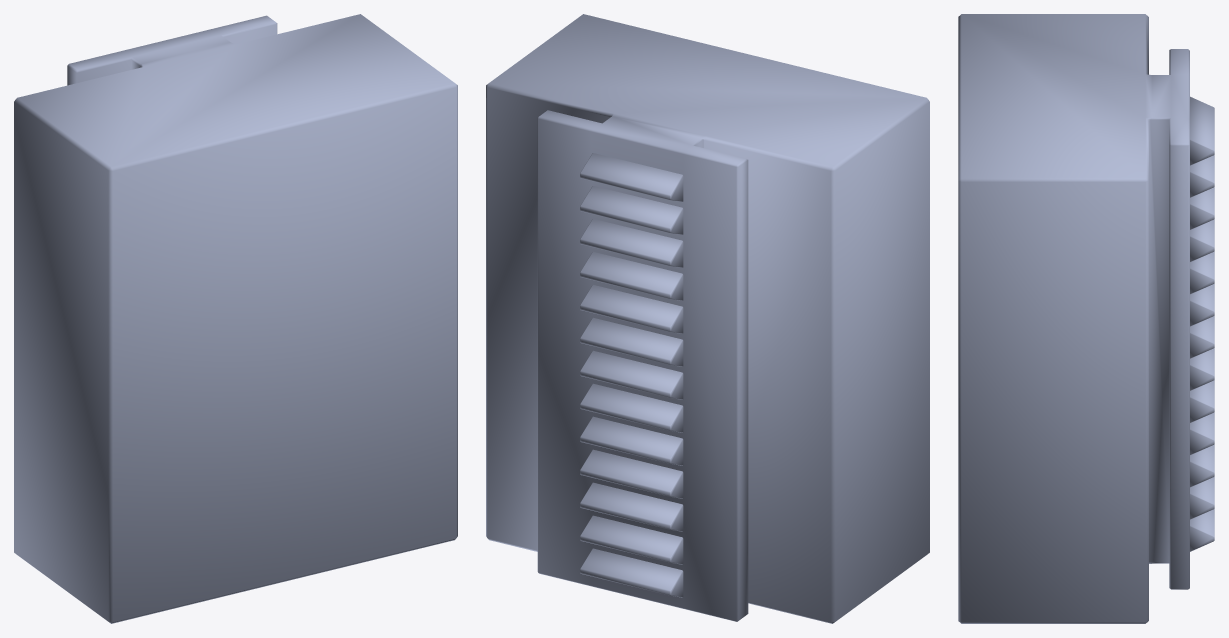
File: Sawblade_mount.fbx
3 renders of one model, left to right at view 1: azimuth 30°, elevation 25°; view 2: azimuth 150°, elevation 25°; view 3: azimuth 270°, elevation 25°, orthographic. The views are drawn at different scales.
Parts seen in each view (by area): view 1: Sawblade_mount_LP_UE4; view 2: Sawblade_mount_LP_UE4; view 3: Sawblade_mount_LP_UE4.
Part boxes in pixels (x1,y1,x2,y2): Sawblade_mount_LP_UE4: [14, 14, 457, 623]; Sawblade_mount_LP_UE4: [486, 14, 929, 623]; Sawblade_mount_LP_UE4: [958, 14, 1214, 623].
Size of the model in its own units: 15.63 by 24 by 30.
